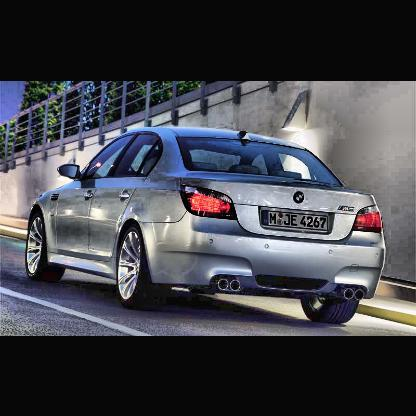BMW M5 Sedan 2010: (27, 127, 385, 327)
